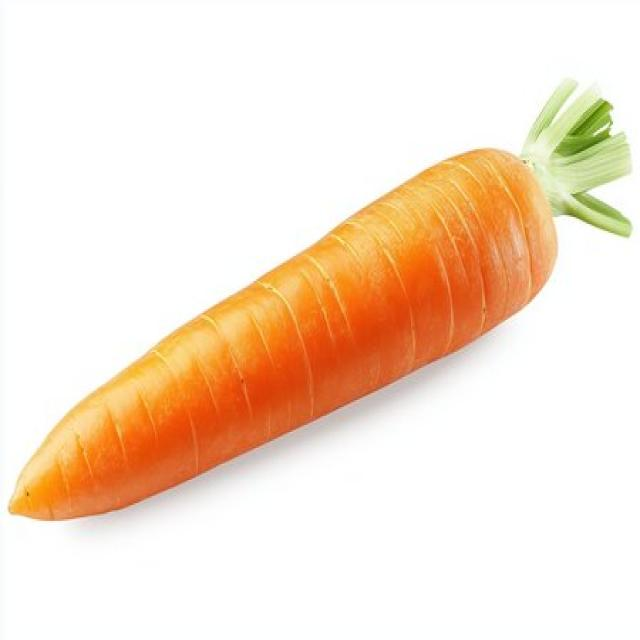Carrot: (7, 75, 633, 522)
